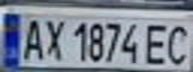1: (66, 17, 87, 62)
4: (121, 19, 145, 64)
7: (103, 19, 124, 63)
8: (84, 18, 106, 62)
A: (18, 12, 48, 61)
C: (163, 20, 193, 66)
E: (139, 19, 175, 65)
X: (39, 14, 69, 62)
